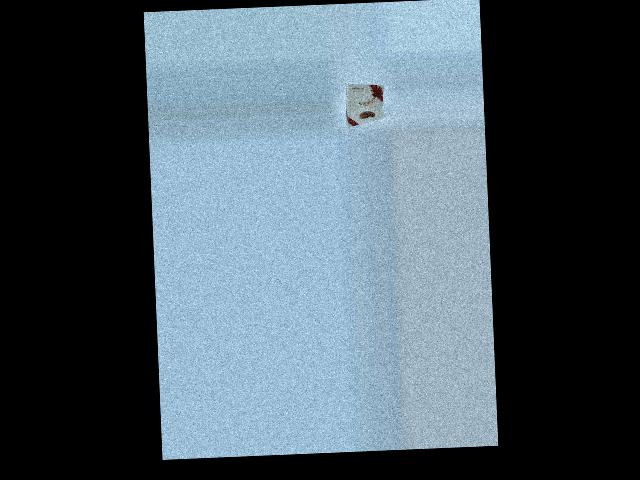chocolate: (336, 83, 386, 129)
